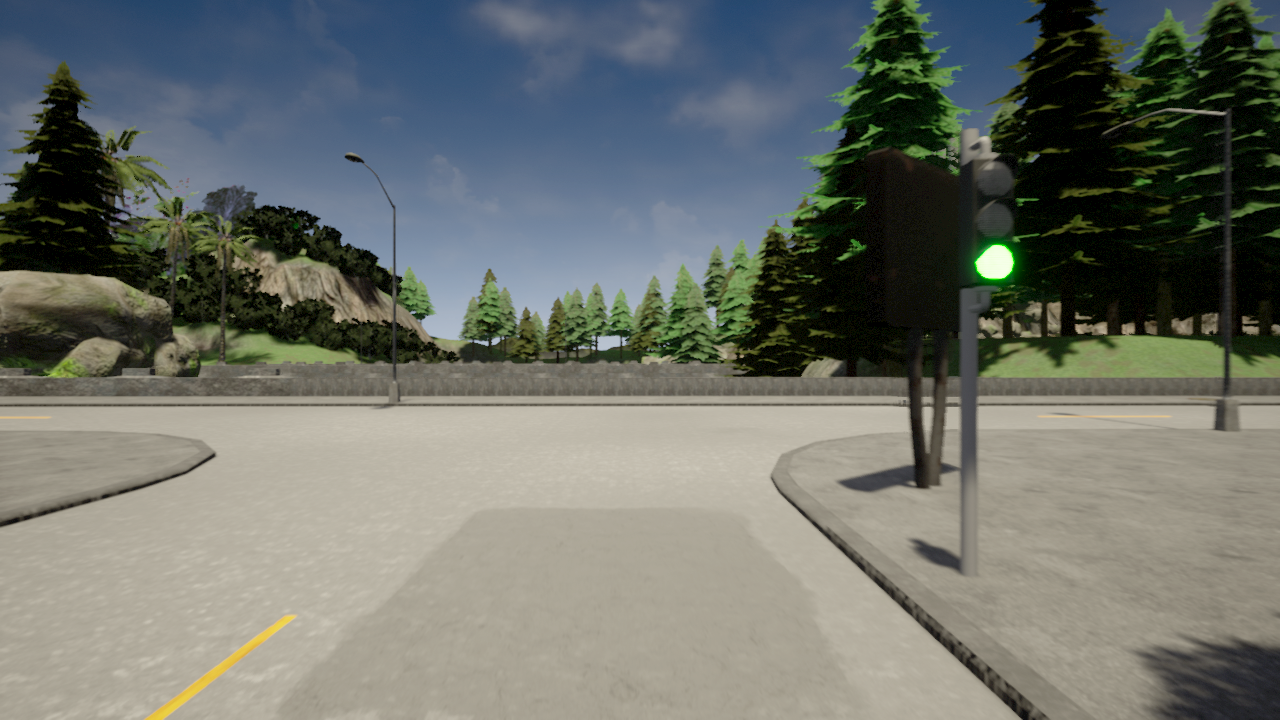green: (955, 153, 1024, 298)
